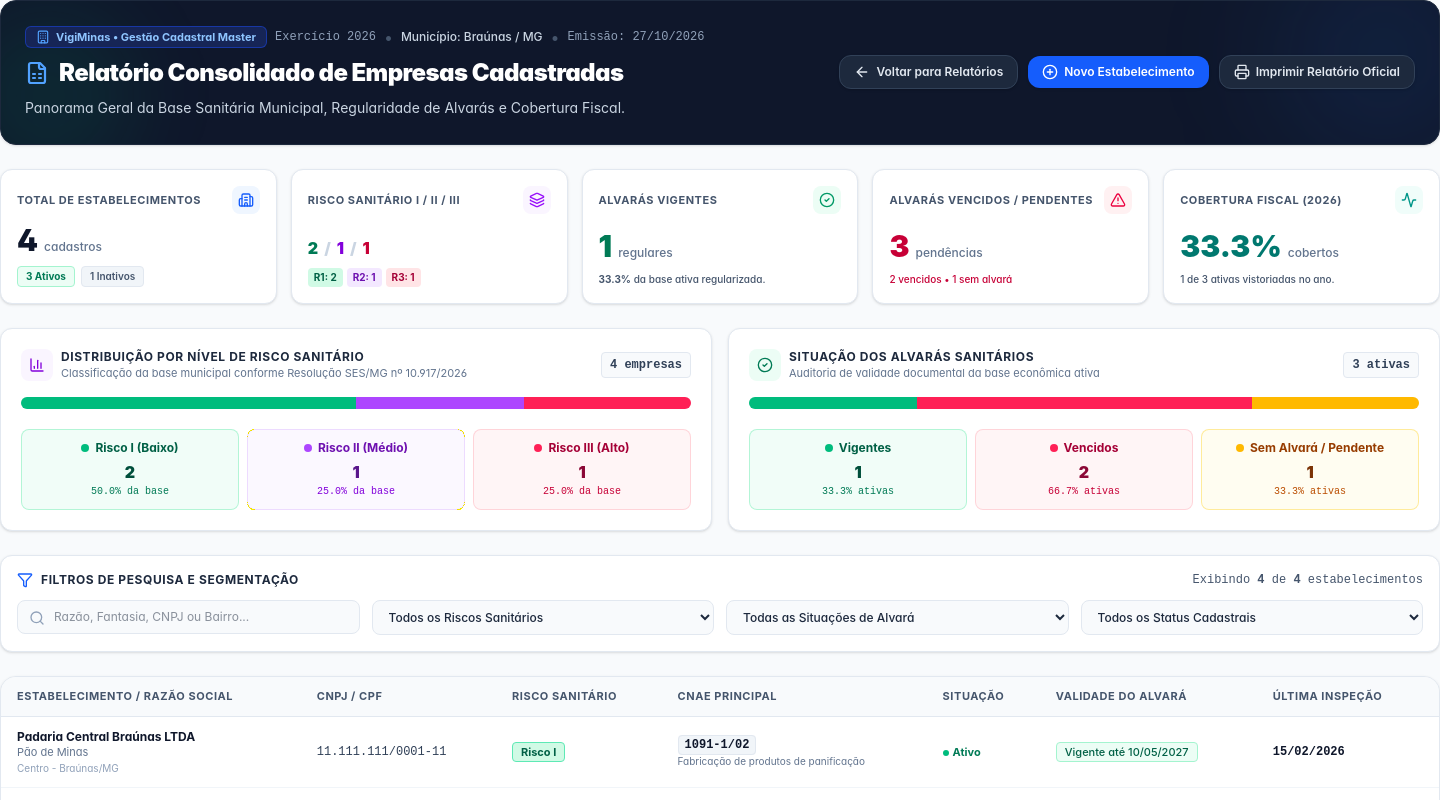
Scenario: RelatorioEmpresasConsolidadasPage (US-07 - Relatório Master) › filtra estabelecimentos pelo campo de busca textual
In the field with placeholder "Razão, Fantasia, CNPJ ou Bairro...": point(188, 617) [17,600,360,634], type "Hospital"
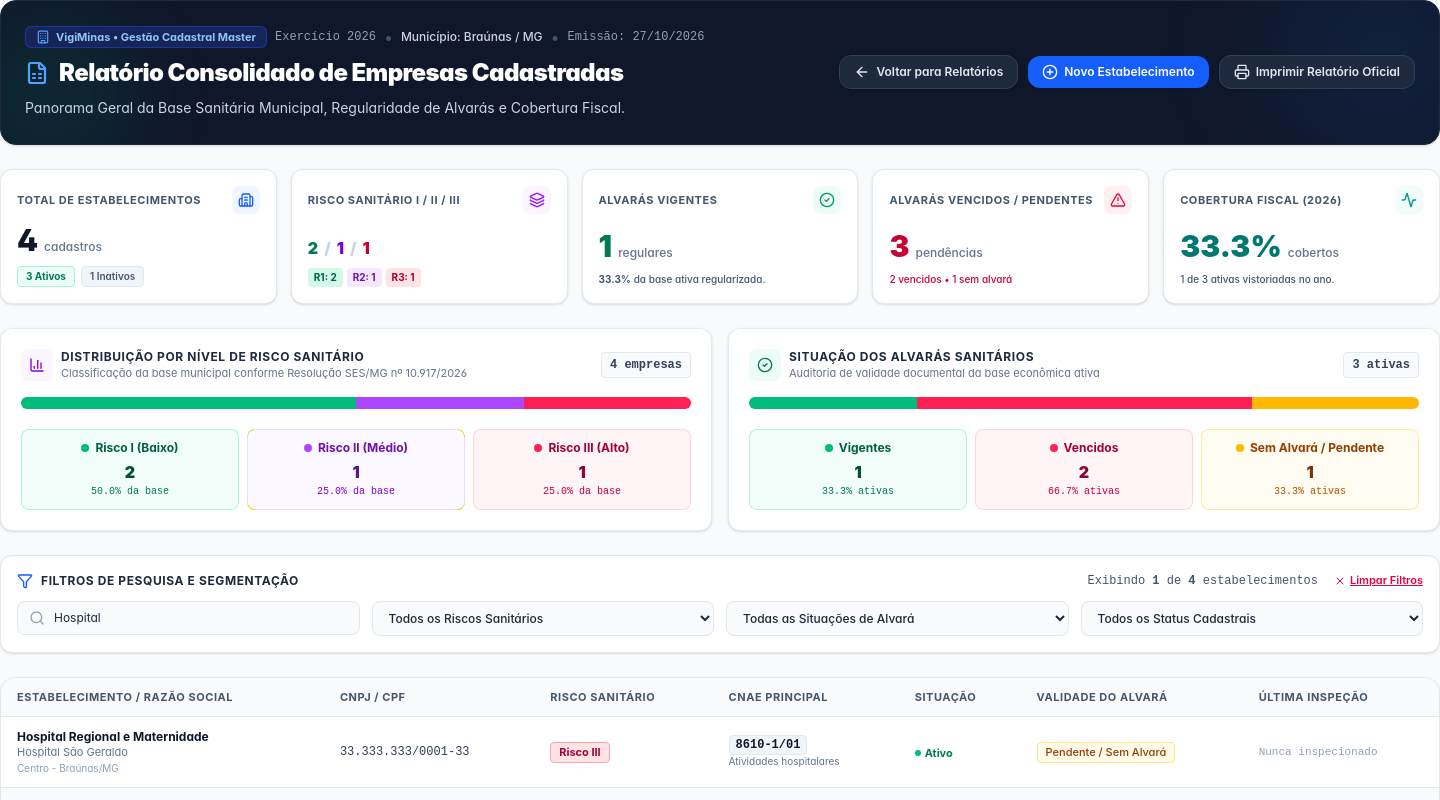
expect the text "Hospital Regional e Maternidade" is shown: met, box [17,729,209,744]
expect the text "Padaria Central Braúnas LTDA" is gone: met
